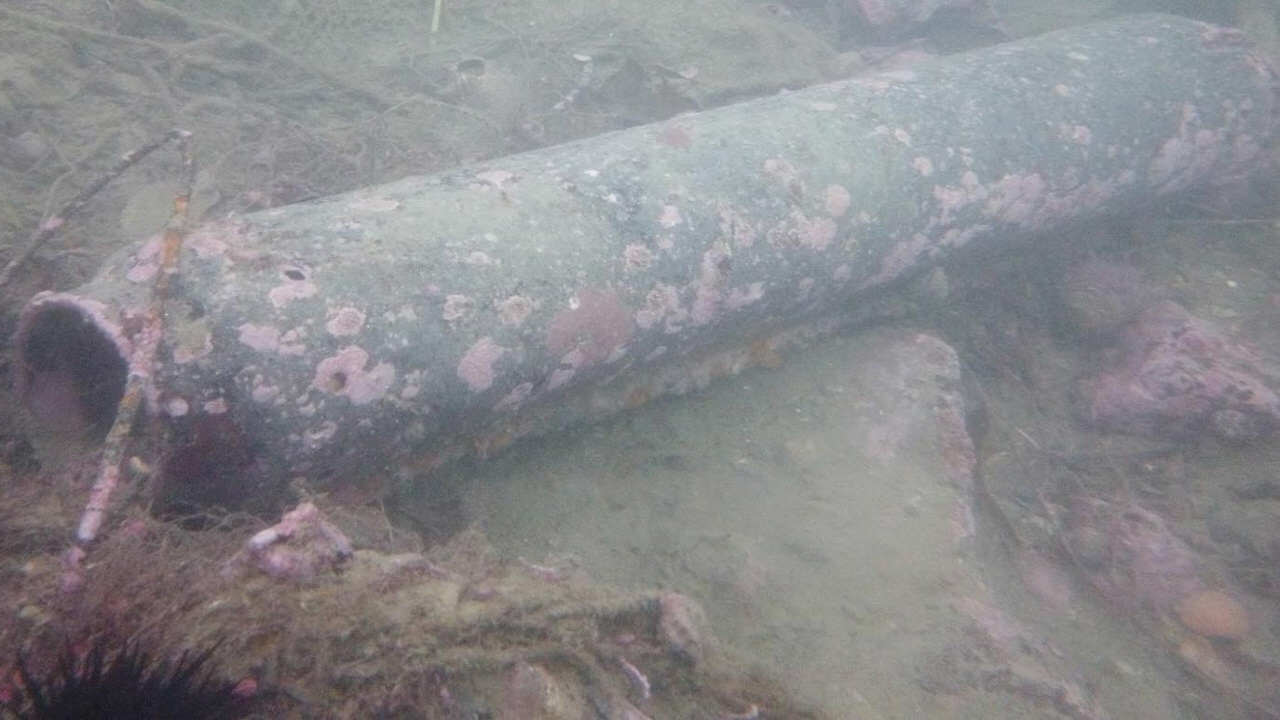eel fish trap: (9, 12, 1280, 514)
